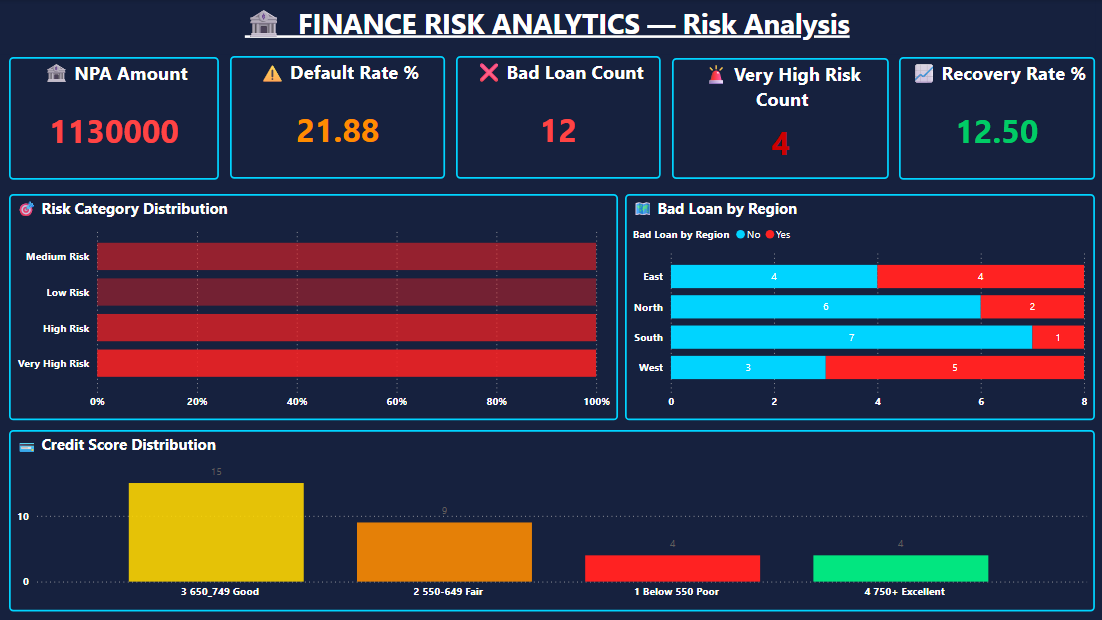

The page's visual inventory and layout, read from the dashboard file:
{"tool":"powerbi","page":{"name":"Risk Analysis","canvas":[1280,720],"ordinal":1},"visuals":[{"type":"textbox","box":[0,0,1269.3,64.3],"z":0},{"type":"card","title":"🏦 NPA Amount","fields":{"Values":["Risk_KPI.NPA_Amount"]},"box":[11.6,67.6,243,141.9],"z":0,"group":"g1"},{"type":"card","title":"❌ Bad Loan Count","fields":{"Values":["Risk_KPI.Bad_Loan_Count"]},"box":[529.5,66.4,236.5,141.9],"z":1000,"group":"g1"},{"type":"hundredPercentStackedBarChart","title":"🎯 Risk Category Distribution","fields":{"Category":["Topic Append Queries + Multiple.Risk_Category"],"Y":["_Mesures.Total_Portfolio INR"]},"box":[11.3,225.2,704.8,262.5],"z":1000},{"type":"card","title":"⚠️ Default Rate %","fields":{"Values":["Risk_KPI.Default_Rate"]},"box":[267.1,66,249.5,141.9],"z":2000,"group":"g1"},{"type":"barChart","title":"🗺️ Bad Loan by Region","fields":{"Category":["Topic Append Queries + Multiple.Region"],"Y":["CountNonNull(Topic Append Queries + Multiple.Loan_ID)"],"Series":["Topic Append Queries + Multiple.Is_Bad_Loan"]},"box":[724.3,225.2,544.4,262.5],"z":2000},{"type":"card","title":"🚨 Very High Risk Count","fields":{"Values":["Risk_KPI.VeryHighRisk_Rate"]},"box":[779,68,251.1,140.3],"z":3000,"group":"g1"},{"type":"clusteredColumnChart","title":"💳 Credit Score Distribution","fields":{"Category":["Topic Append Queries + Multiple.Credit_Score_Band"],"Y":["CountNonNull(Topic Append Queries + Multiple.Loan_ID)"]},"box":[11.6,498.9,1257.1,209.5],"z":3000},{"type":"group","id":"g1","title":"Group 1","box":[11.6,66,1257.1,143.5],"z":4000},{"type":"card","title":"📈 Recovery Rate %","fields":{"Values":["Risk_KPI.Recovery_Rate"]},"box":[1041.9,67.6,226.8,141.9],"z":4000,"group":"g1"}]}

Visuals, with their boxes in screenshot pixels (x1, y1, x2, y2), scaled from the page's 1280x720 canvas onto the 1102x620 screenshot:
textbox: x1=0, y1=0, x2=1093, y2=55
"🏦 NPA Amount" card: x1=10, y1=58, x2=219, y2=180
"❌ Bad Loan Count" card: x1=456, y1=57, x2=659, y2=179
"🎯 Risk Category Distribution" hundredPercentStackedBarChart: x1=10, y1=194, x2=617, y2=420
"⚠️ Default Rate %" card: x1=230, y1=57, x2=445, y2=179
"🗺️ Bad Loan by Region" barChart: x1=624, y1=194, x2=1092, y2=420
"🚨 Very High Risk Count" card: x1=671, y1=59, x2=887, y2=179
"💳 Credit Score Distribution" clusteredColumnChart: x1=10, y1=430, x2=1092, y2=610
"Group 1" group: x1=10, y1=57, x2=1092, y2=180
"📈 Recovery Rate %" card: x1=897, y1=58, x2=1092, y2=180
